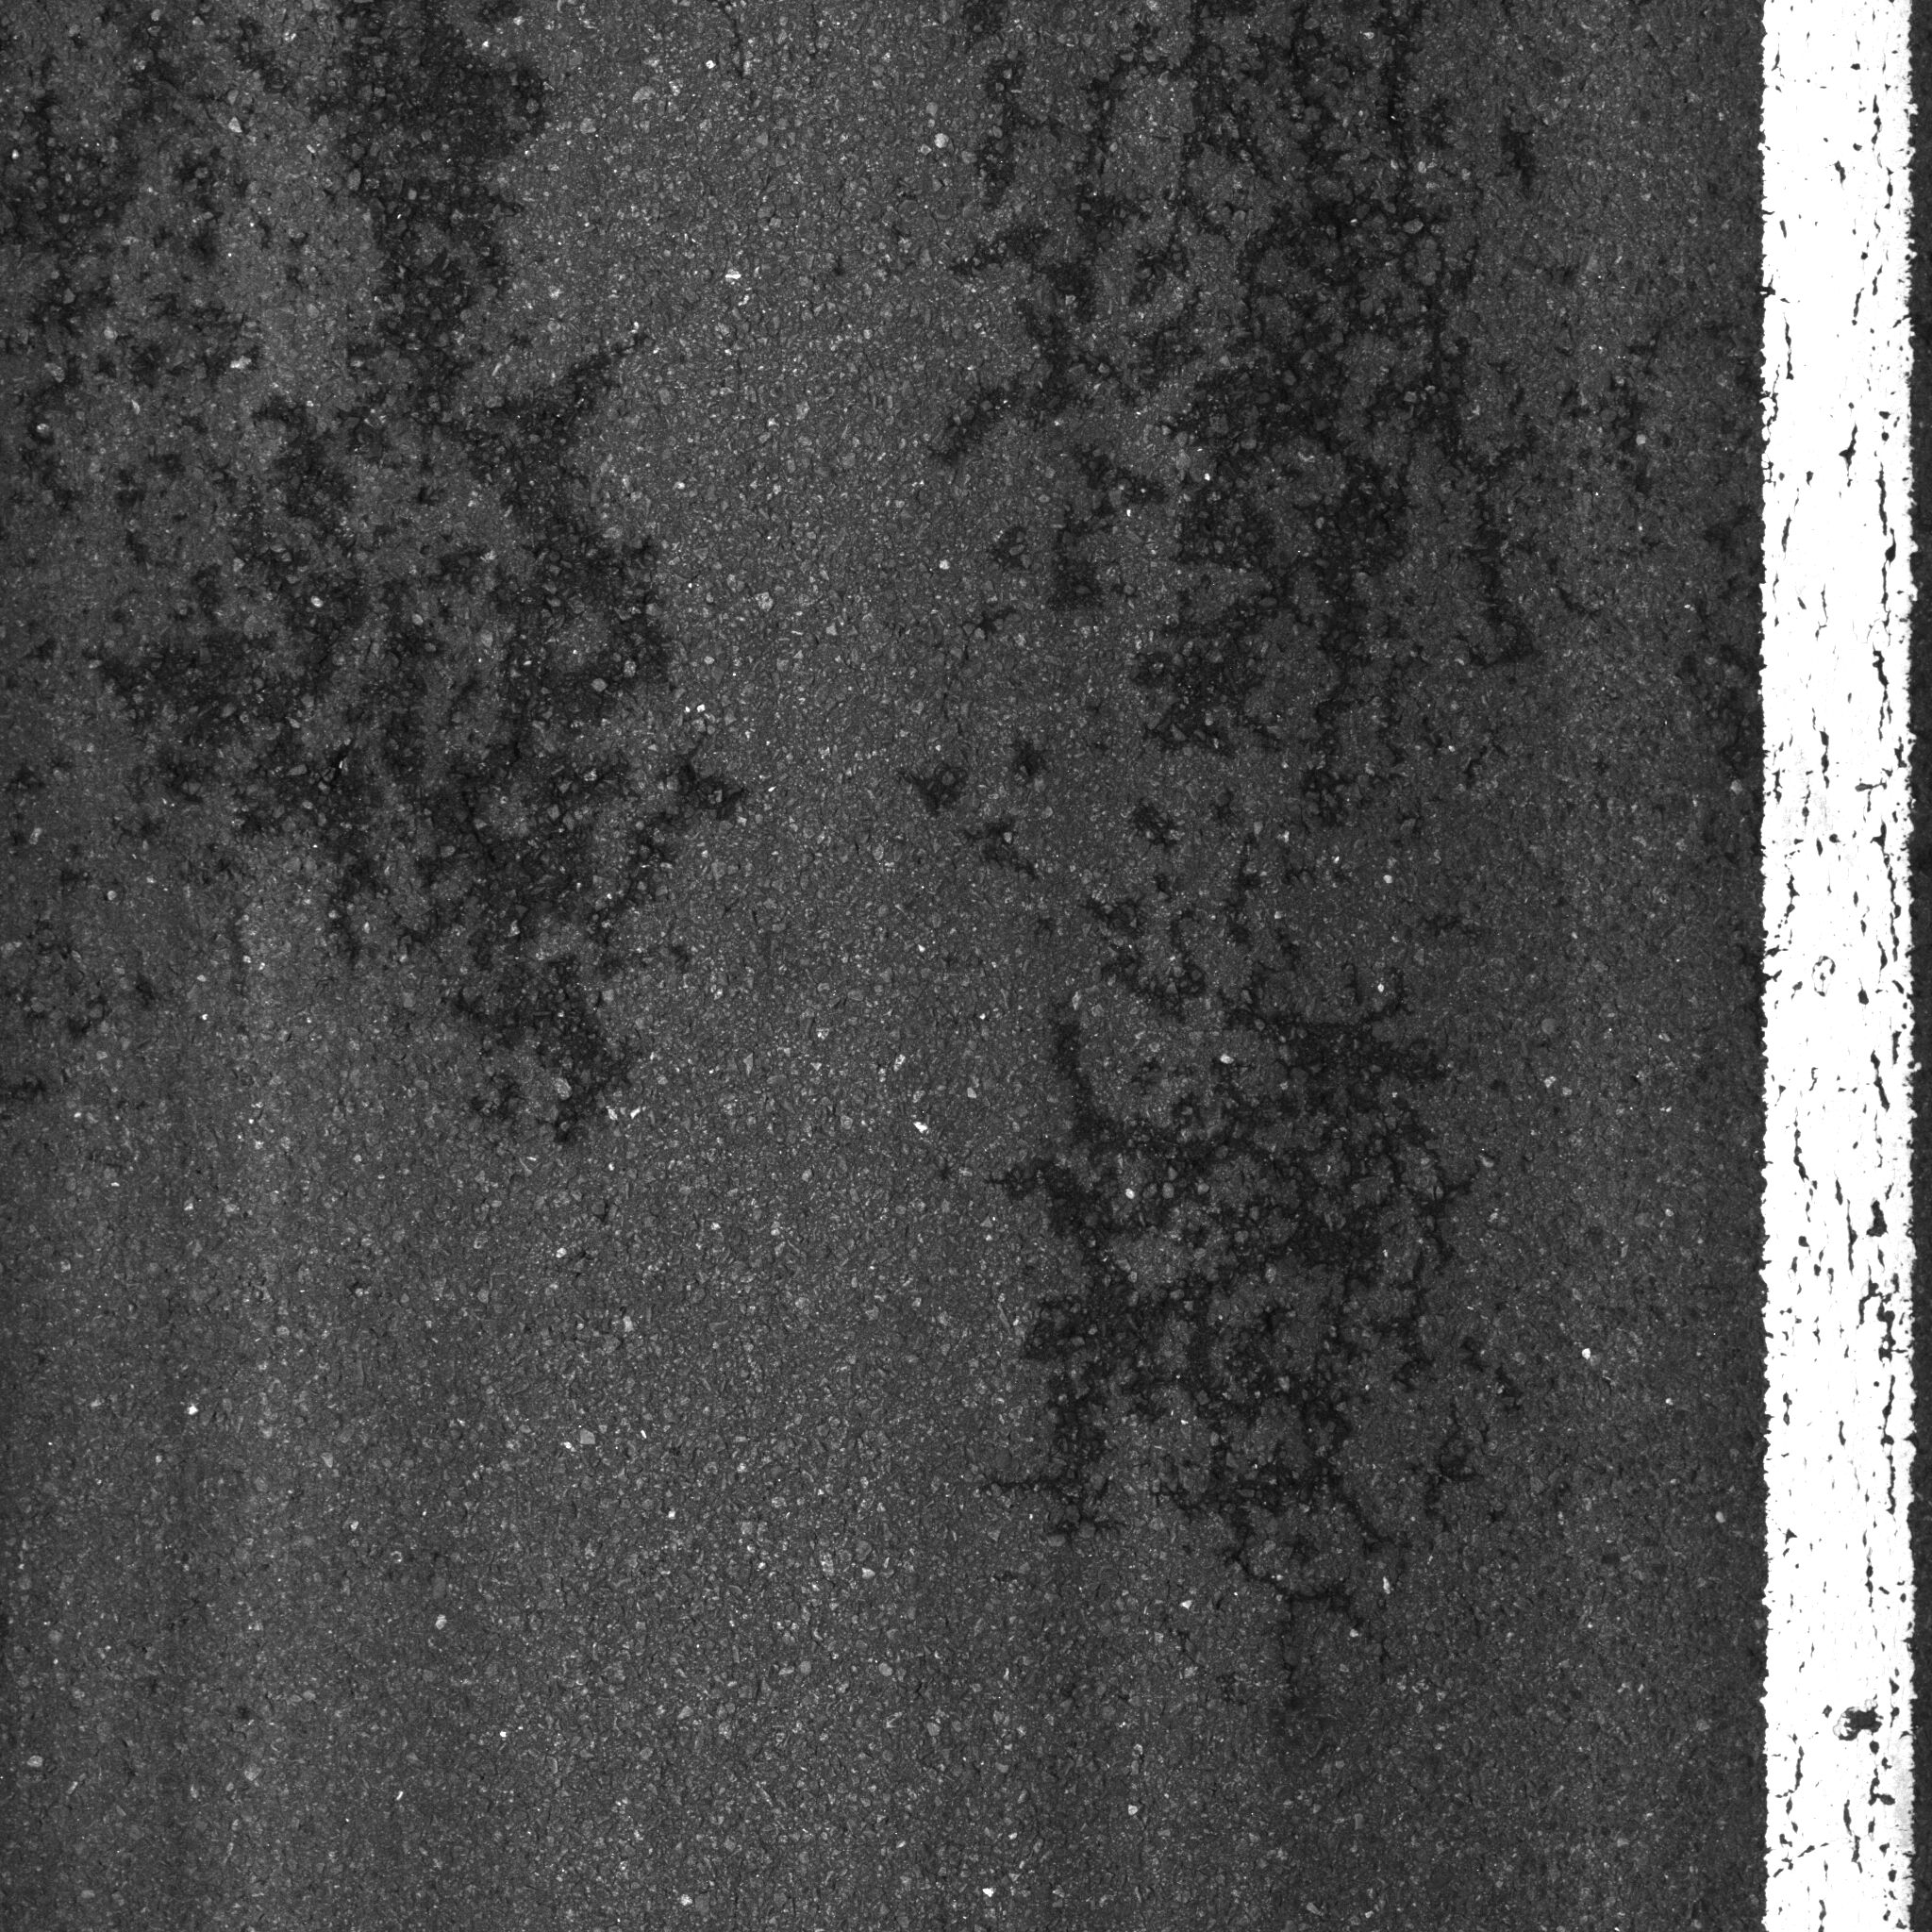alligator: (904, 7, 1668, 1695), (39, 2, 764, 1214)
